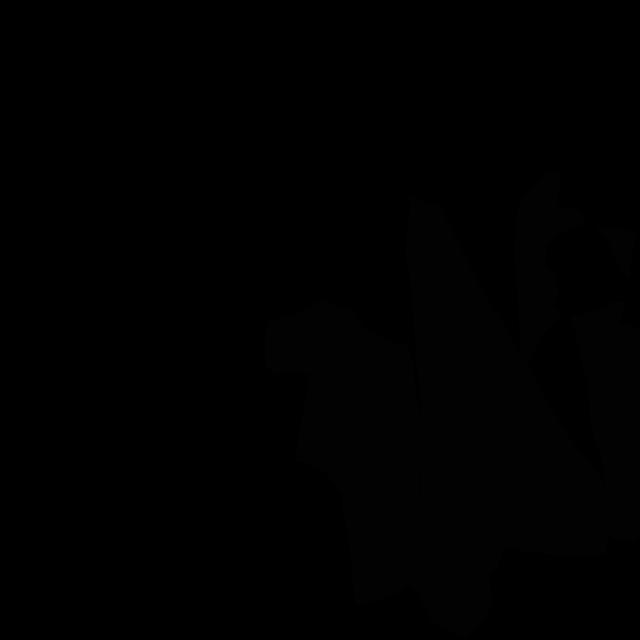cardboard: (265, 298, 504, 640), (405, 195, 609, 557), (515, 172, 586, 364), (588, 323, 640, 541), (571, 301, 625, 383), (594, 226, 637, 281)
